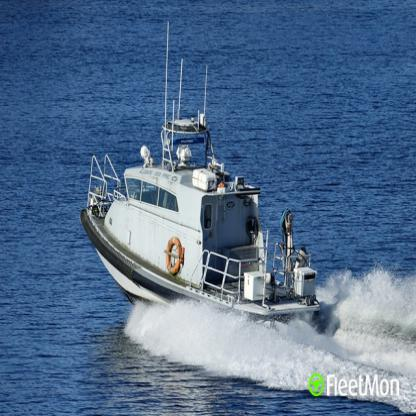Patrol Boat: (81, 21, 321, 330)
